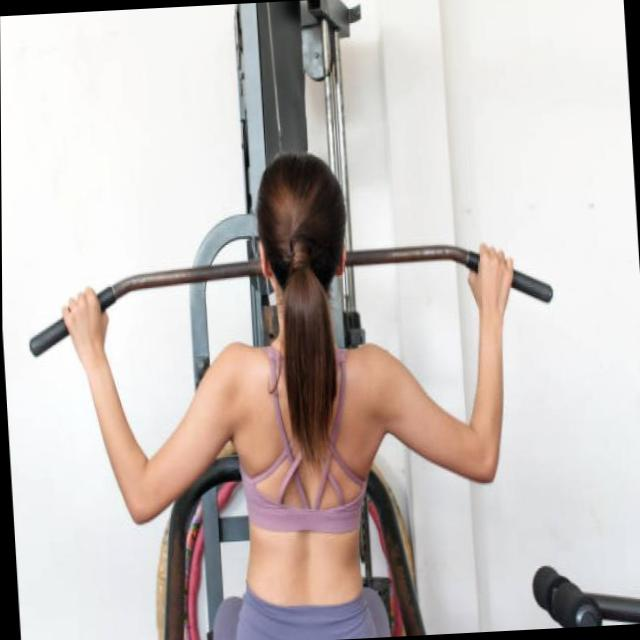no helmet: (247, 145, 359, 310)
